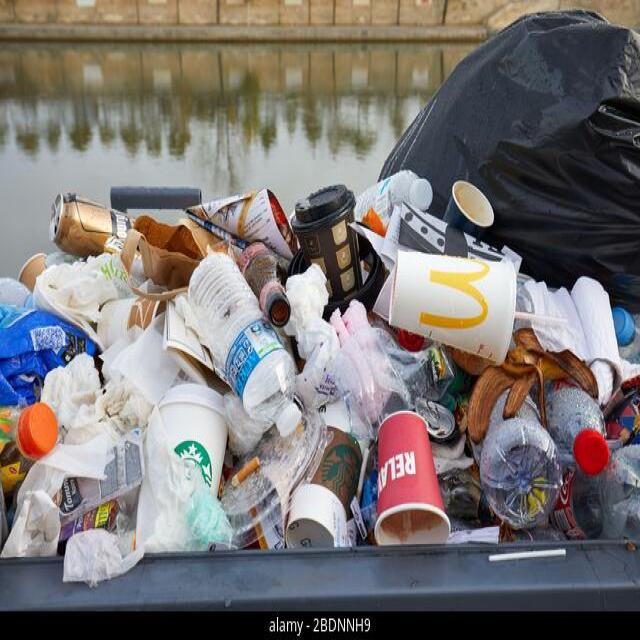metal: (49, 192, 122, 248)
plastic: (386, 255, 526, 355), (194, 265, 282, 419), (378, 411, 449, 555), (300, 202, 365, 299)
trash: (242, 428, 616, 569), (403, 9, 638, 229), (19, 262, 188, 563)
